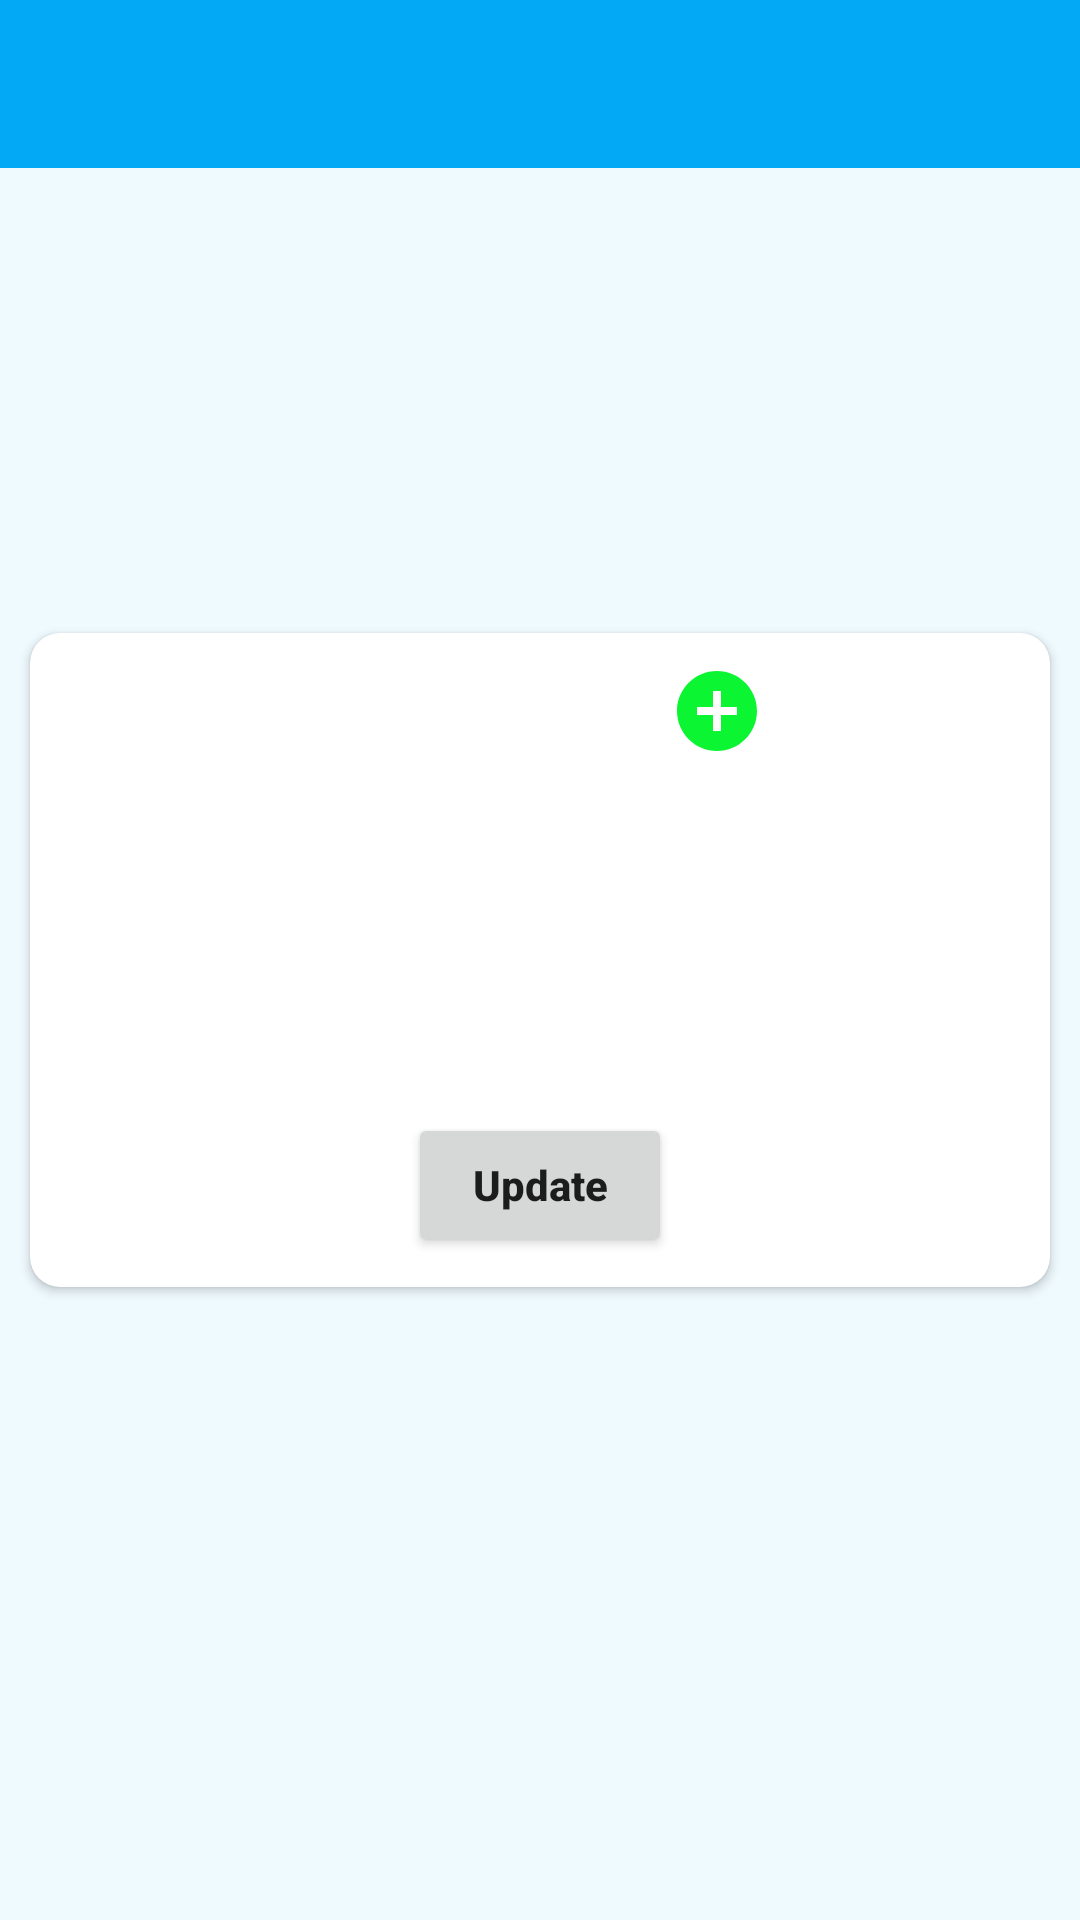

Screen size 1080px×1920px. Icon name, then its box in pixels as (x1,y1,x2,y2):
add circle: (677,671,757,751)
